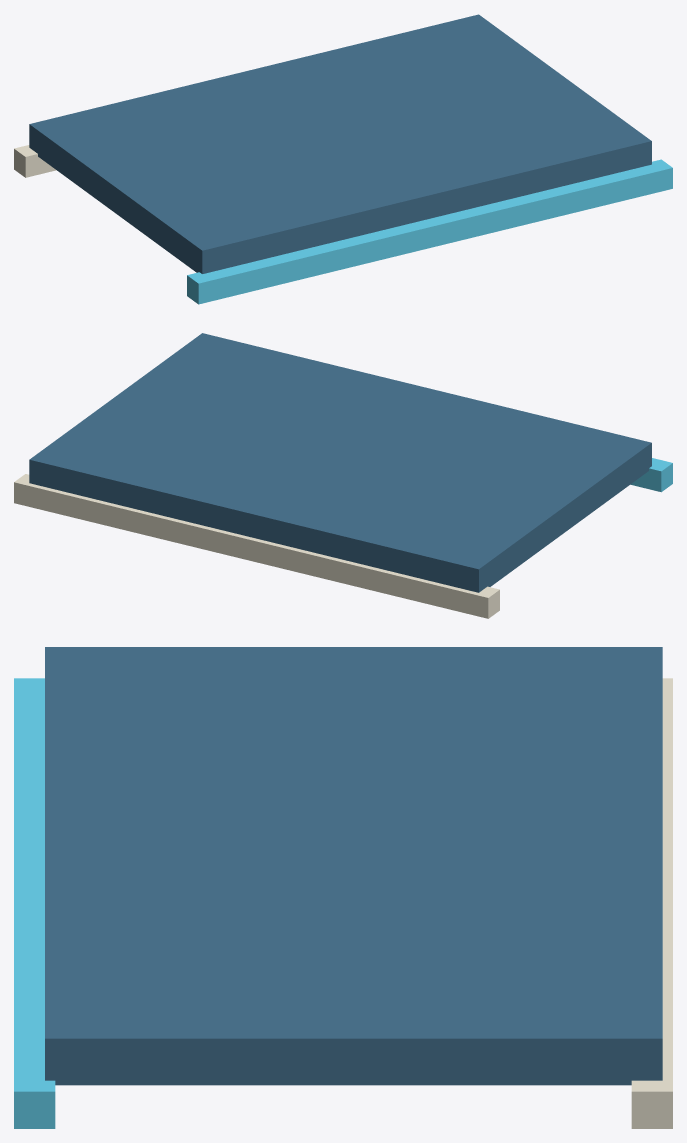
The model's file is 01_world_facade.glb.
3 views of the same model, one above another, from view 1: azimuth 30°, elevation 25°; view 2: azimuth 150°, elevation 25°; view 3: azimuth 270°, elevation 25° (orthographic). The views are drawn at different scales.
Parts seen in each view (by area): view 1: wall_panel_upgrade, trim_top, trim_bottom; view 2: wall_panel_upgrade, trim_bottom, trim_top; view 3: wall_panel_upgrade, trim_top, trim_bottom.
Boxes of the visible parts, x1=… form: wall_panel_upgrade: x1=29, y1=14, x2=651, y2=273; trim_top: x1=187, y1=159, x2=672, y2=304; trim_bottom: x1=14, y1=145, x2=56, y2=177; wall_panel_upgrade: x1=29, y1=333, x2=651, y2=592; trim_bottom: x1=14, y1=474, x2=499, y2=618; trim_top: x1=630, y1=458, x2=672, y2=492; wall_panel_upgrade: x1=45, y1=647, x2=662, y2=1085; trim_top: x1=14, y1=678, x2=55, y2=1128; trim_bottom: x1=631, y1=678, x2=672, y2=1128.
Bounding box in the file's own units: 1.9 × 0.17 × 1.28.
